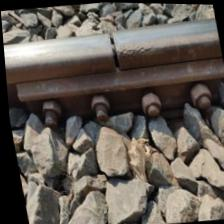person: (74, 16, 155, 85)
